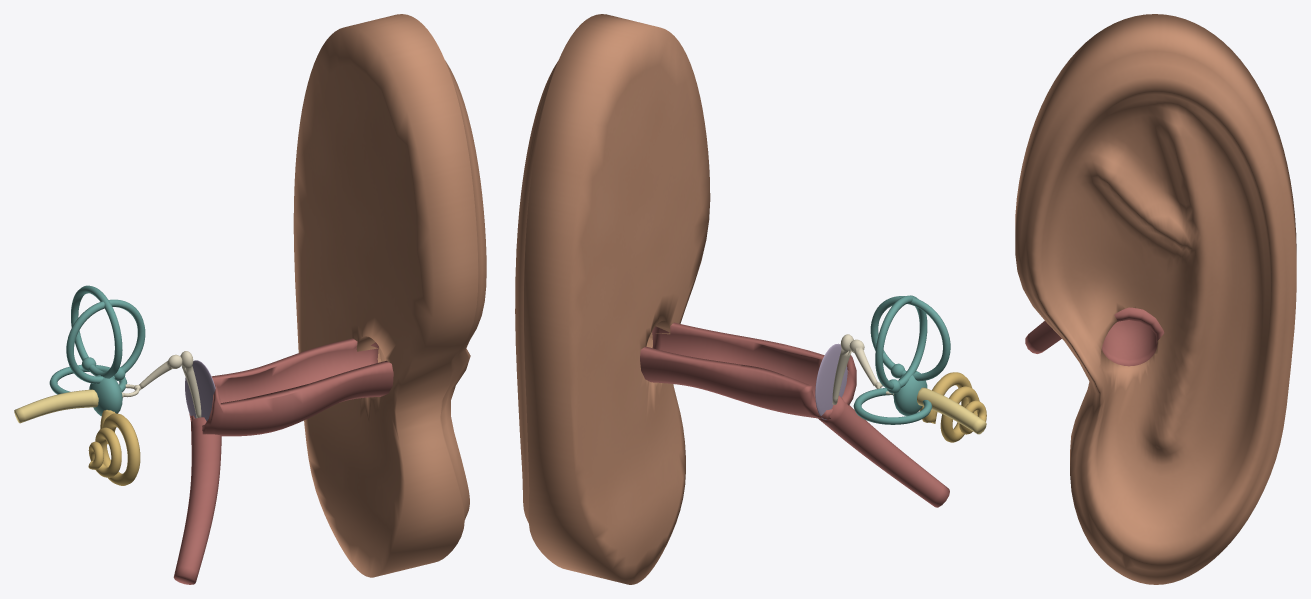
The model's file is ear-anatomy-model.glb.
The picture shows the model from 3 angles, left to right: view 1: azimuth 30°, elevation 25°; view 2: azimuth 150°, elevation 25°; view 3: azimuth 270°, elevation 25°; orthographic projection.
Visible parts, largest first — view 1: Right auricle with helix antihelix concha tragus and lobule, External auditory canal with superior teaching cut, Auditory tube schematic continuation, Cochlea with two and three-quarter spiral turns, Anterior semicircular canal, Posterior semicircular canal, Auditory nerve stump, Tympanic membrane, Vestibule, Malleus attached to tympanic membrane; view 2: Right auricle with helix antihelix concha tragus and lobule, External auditory canal with superior teaching cut, Auditory tube schematic continuation, Cochlea with two and three-quarter spiral turns, Posterior semicircular canal, Anterior semicircular canal, Tympanic membrane, Auditory nerve stump, Lateral semicircular canal, Vestibule, Malleus attached to tympanic membrane; view 3: Right auricle with helix antihelix concha tragus and lobule, External auditory canal with superior teaching cut, Auditory tube schematic continuation.
Boxes of the visible parts, left/top/right/bottom form: Right auricle with helix antihelix concha tragus and lobule: left=293, top=14, right=486, bottom=577; External auditory canal with superior teaching cut: left=189, top=338, right=393, bottom=436; Auditory tube schematic continuation: left=173, top=417, right=221, bottom=584; Cochlea with two and three-quarter spiral turns: left=88, top=410, right=140, bottom=485; Anterior semicircular canal: left=66, top=299, right=145, bottom=383; Posterior semicircular canal: left=71, top=285, right=122, bottom=378; Auditory nerve stump: left=14, top=389, right=98, bottom=423; Tympanic membrane: left=185, top=360, right=215, bottom=421; Vestibule: left=89, top=375, right=122, bottom=415; Malleus attached to tympanic membrane: left=180, top=351, right=201, bottom=417; Right auricle with helix antihelix concha tragus and lobule: left=515, top=14, right=710, bottom=584; External auditory canal with superior teaching cut: left=640, top=322, right=856, bottom=419; Auditory tube schematic continuation: left=818, top=396, right=949, bottom=507; Cochlea with two and three-quarter spiral turns: left=919, top=372, right=986, bottom=442; Posterior semicircular canal: left=875, top=295, right=927, bottom=389; Anterior semicircular canal: left=870, top=296, right=950, bottom=381; Tympanic membrane: left=815, top=343, right=847, bottom=419; Auditory nerve stump: left=917, top=387, right=986, bottom=434; Lateral semicircular canal: left=853, top=388, right=932, bottom=424; Vestibule: left=893, top=371, right=927, bottom=415; Malleus attached to tympanic membrane: left=832, top=334, right=853, bottom=404; Right auricle with helix antihelix concha tragus and lobule: left=1015, top=14, right=1296, bottom=584; External auditory canal with superior teaching cut: left=1101, top=307, right=1164, bottom=366; Auditory tube schematic continuation: left=1025, top=321, right=1061, bottom=353.
Size of the model in its own units: 0.0537 by 0.065 by 0.0305.
7 materials, 7 textured.
